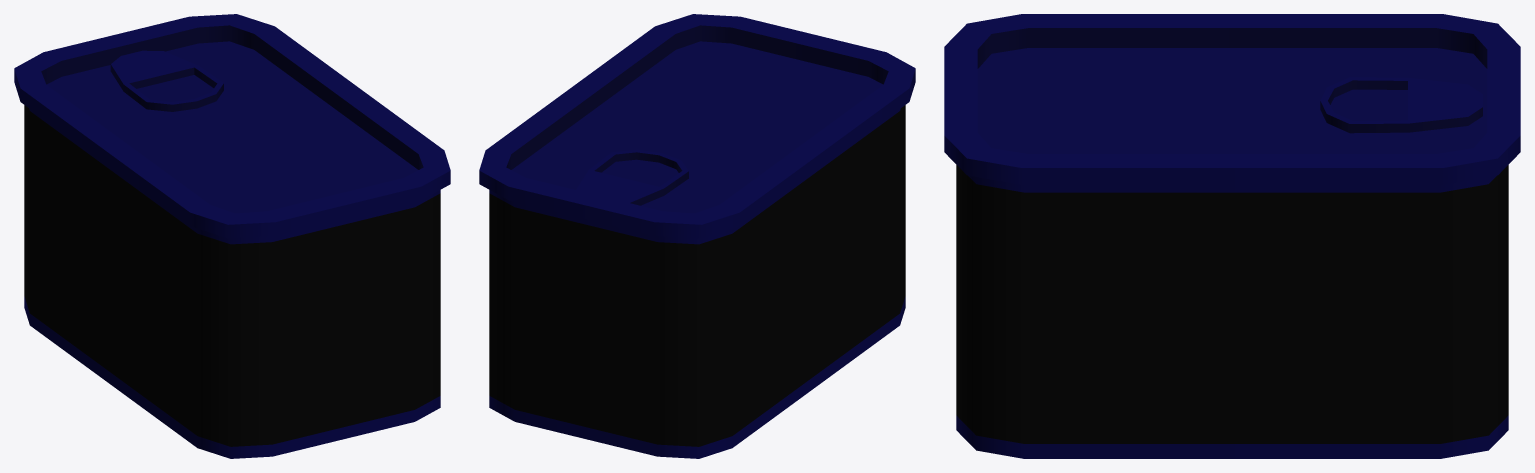
Rendered from consumables-cannedfood-cannedmeat_v1.fbx.
The picture shows the model from 3 angles, left to right: view 1: azimuth 30°, elevation 25°; view 2: azimuth 150°, elevation 25°; view 3: azimuth 270°, elevation 25°; orthographic projection. The views are drawn at different scales.
Visible parts, largest first — view 1: CannedMeat_color, CannedMeat_refl; view 2: CannedMeat_color, CannedMeat_refl; view 3: CannedMeat_color, CannedMeat_refl.
Boxes of the visible parts, x1,y1,x2,y2 form: CannedMeat_color: [24, 105, 440, 446]; CannedMeat_refl: [14, 14, 450, 458]; CannedMeat_color: [489, 105, 905, 446]; CannedMeat_refl: [479, 14, 915, 458]; CannedMeat_color: [956, 165, 1508, 443]; CannedMeat_refl: [944, 14, 1520, 458].
Bounding box in the file's own units: 0.1397 × 0.1251 × 0.2209.
